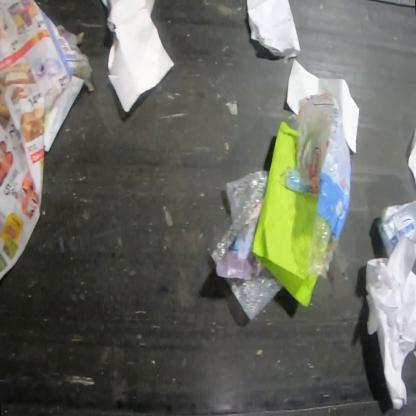cardboard: (376, 197, 415, 262)
soft_plastic: (270, 89, 353, 284), (209, 169, 285, 321)
